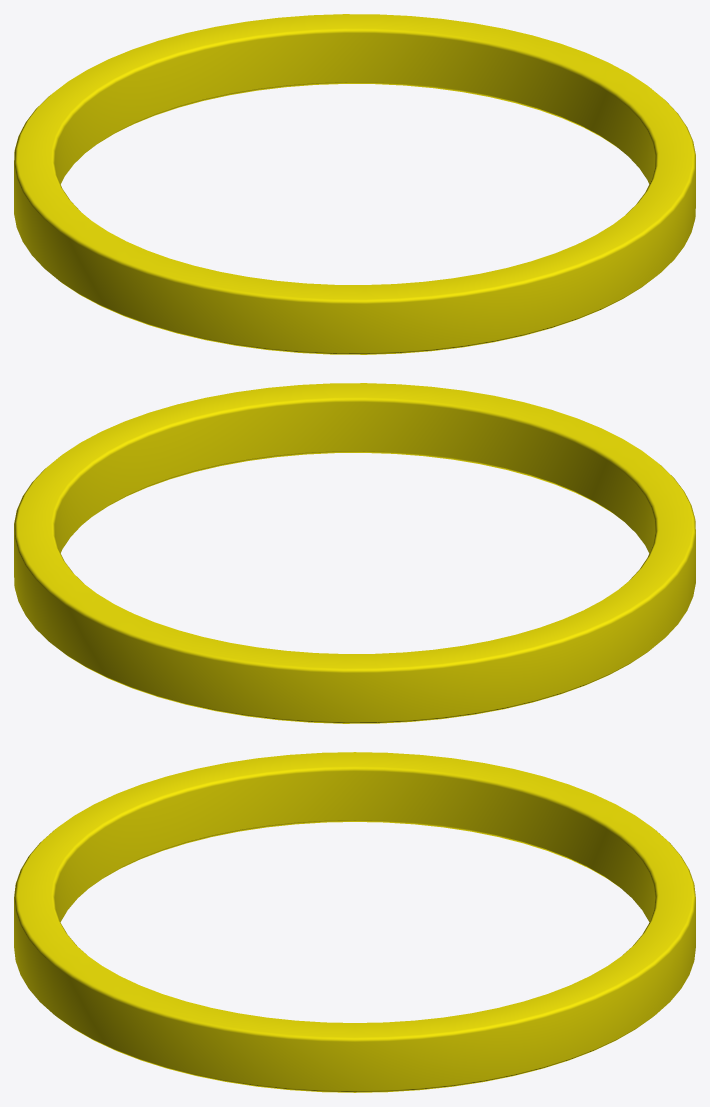
3 renders of one model, top to bottom at view 1: azimuth 30°, elevation 25°; view 2: azimuth 150°, elevation 25°; view 3: azimuth 270°, elevation 25°, orthographic.
Visible parts, largest first — view 1: seal_body; view 2: seal_body; view 3: seal_body.
Boxes of the visible parts, x1,y1,x2,y2 form: seal_body: (14,14,695,354); seal_body: (14,383,695,723); seal_body: (14,752,695,1092).
Bounding box in the file's own units: 0.1587 × 0.0143 × 0.1587.
